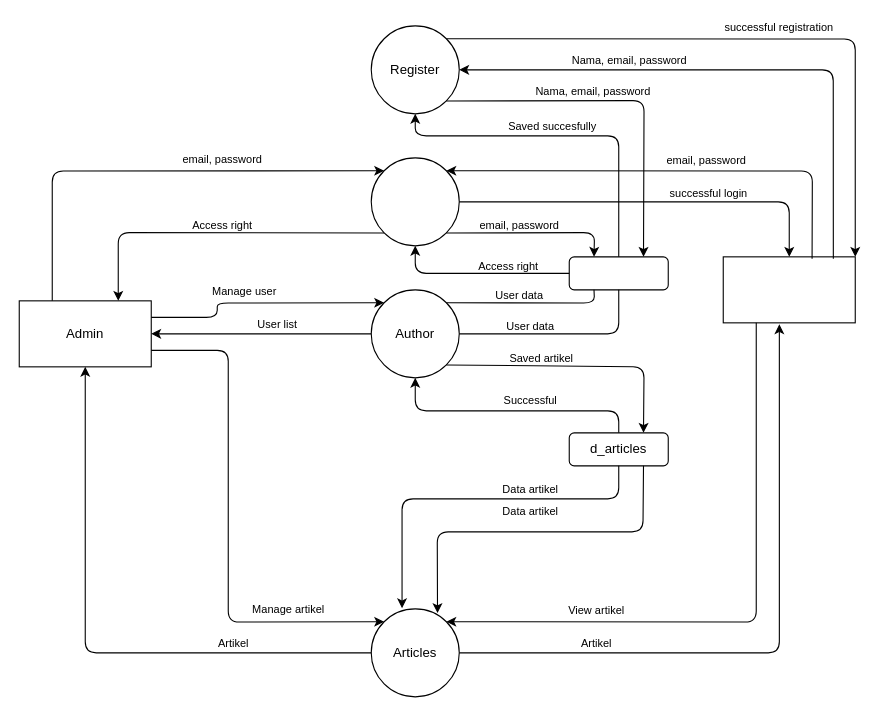
Some shapes in this 883 by 716 pixel diagram are drawn without their labels. Here are the shapes that lost their labels. From the top down, the centre of each, then its label:
At [414,201]: "Login".
At [618,273]: "d_users".
At [788,289]: "User".
